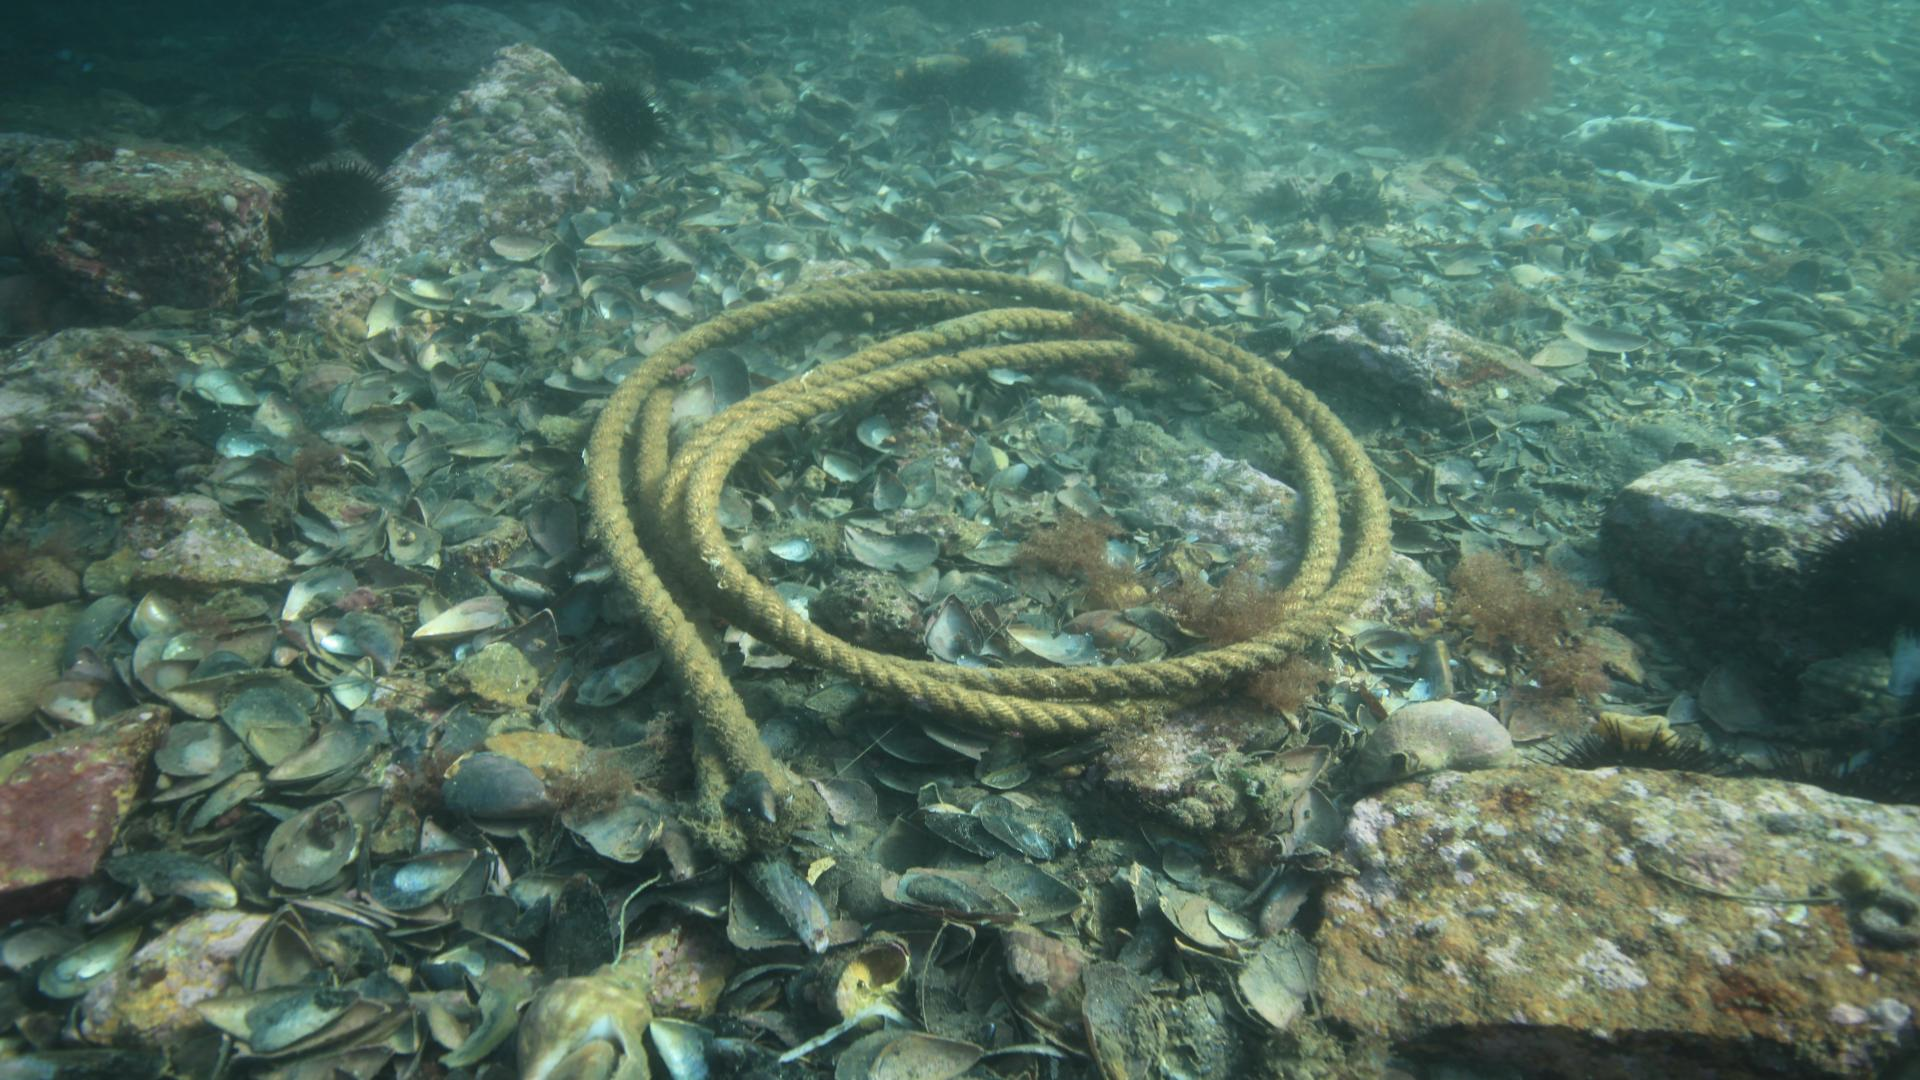bundle of ropes: (582, 262, 1402, 771)
